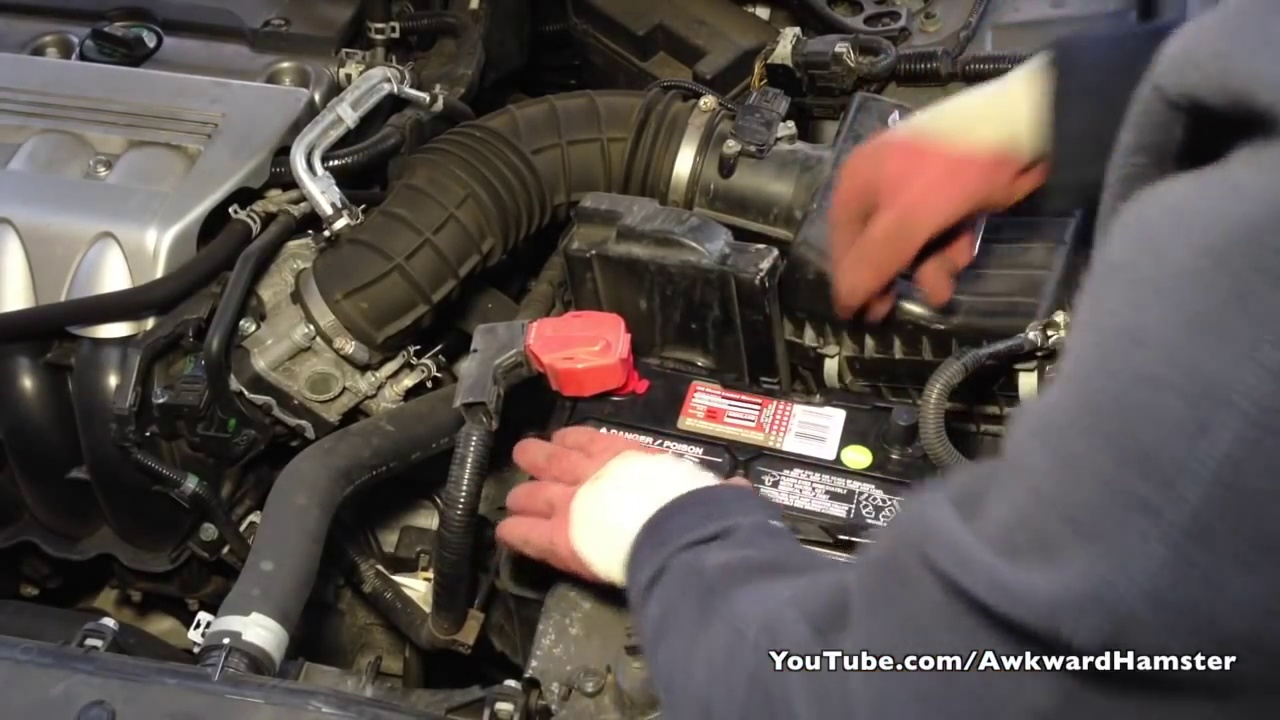battery: (539, 338, 950, 572)
pos_connected: (491, 291, 652, 415)
